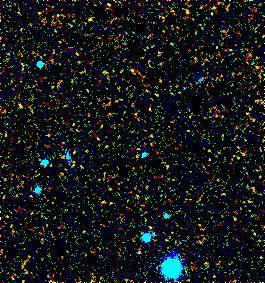star: (116, 55, 146, 85)
